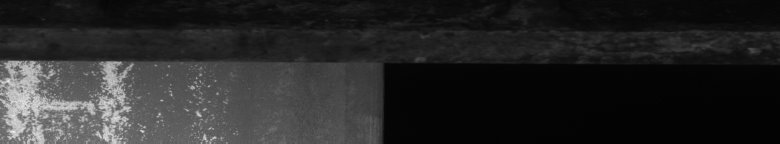kb: (4, 52, 228, 136)
